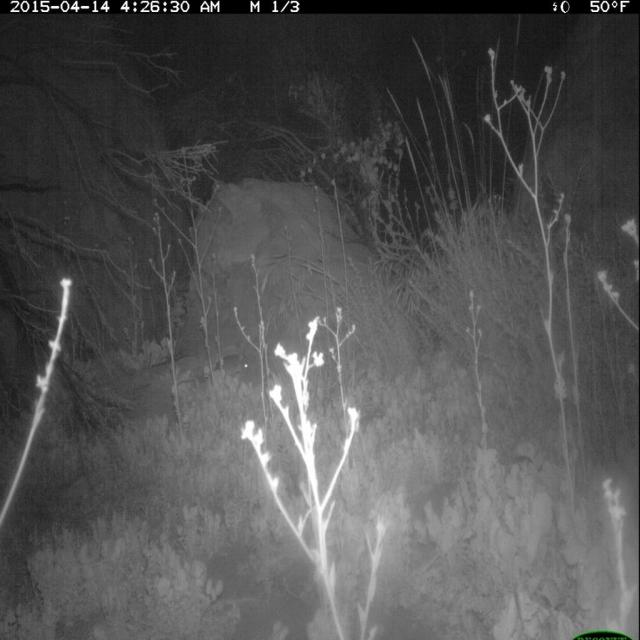rabbit: (212, 339, 254, 386)
